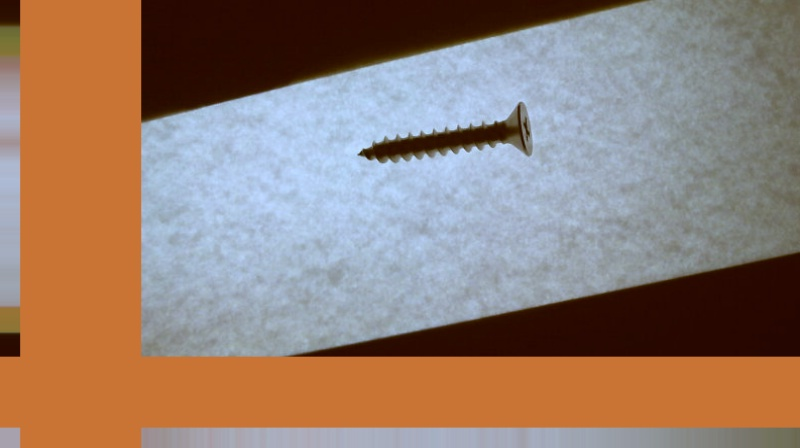S001: (353, 98, 537, 166)
